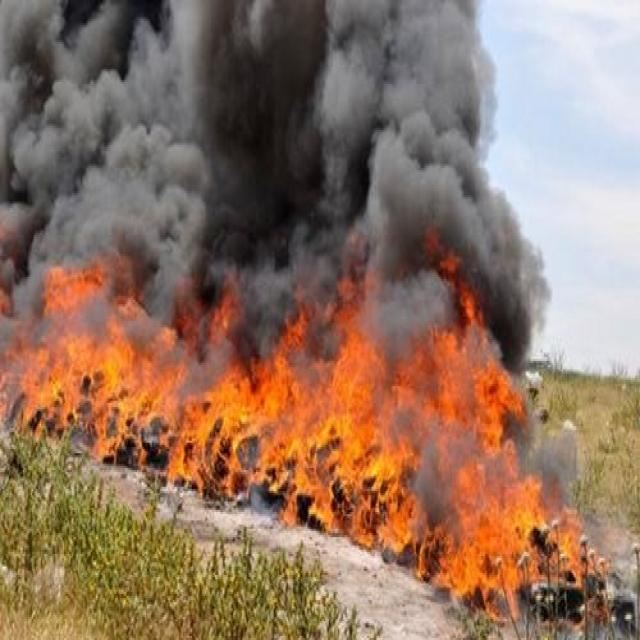Smoke: (0, 0, 579, 551)
